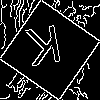K: (25, 25, 65, 75)
